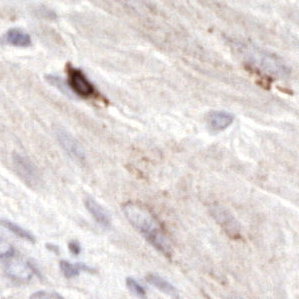Lymphocyte: (63, 63, 100, 97)
